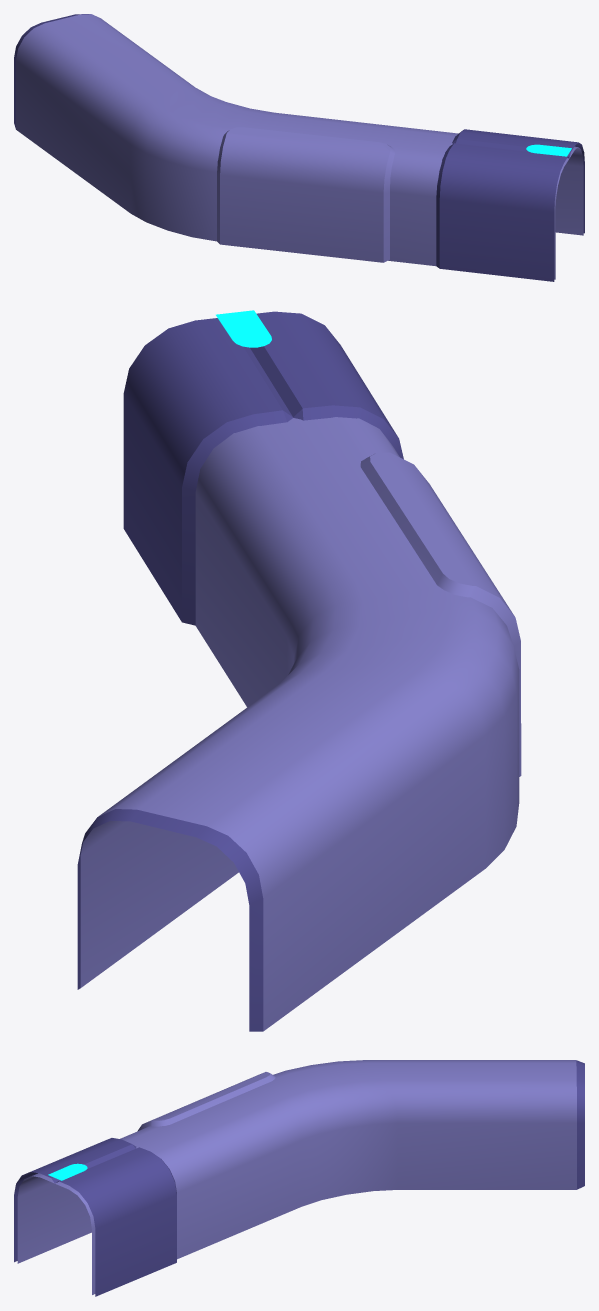
Rendered from wall_cornerSmall.glb.
3 renders of one model, top to bottom at view 1: azimuth 30°, elevation 25°; view 2: azimuth 150°, elevation 25°; view 3: azimuth 270°, elevation 25°, orthographic. The views are drawn at different scales.
Visible parts, largest first — view 1: Wall_cornerSmall; view 2: Wall_cornerSmall; view 3: Wall_cornerSmall.
Part boxes in pixels (left/top/right/bottom): Wall_cornerSmall: left=14, top=14, right=584, bottom=281; Wall_cornerSmall: left=77, top=310, right=521, bottom=1031; Wall_cornerSmall: left=14, top=1060, right=584, bottom=1296.
Bounding box in the file's own units: 0.6755 × 0.2119 × 1.08.
1 material, 1 textured.
